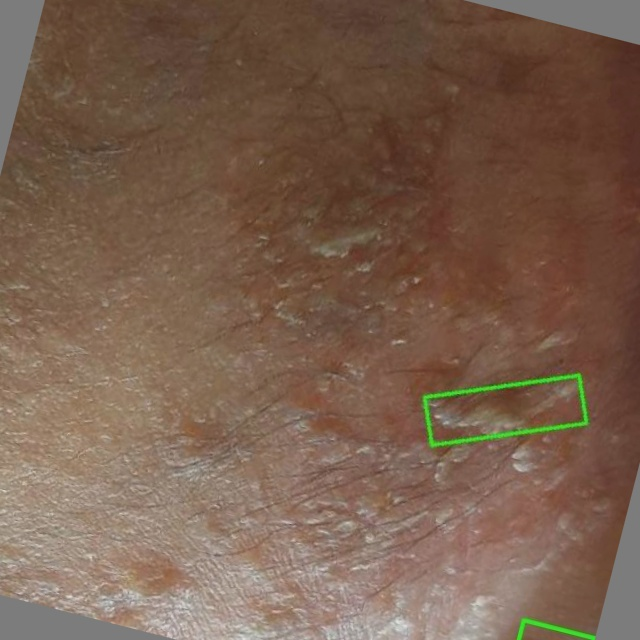Seborrheic Dermatitis: (425, 374, 586, 444)
